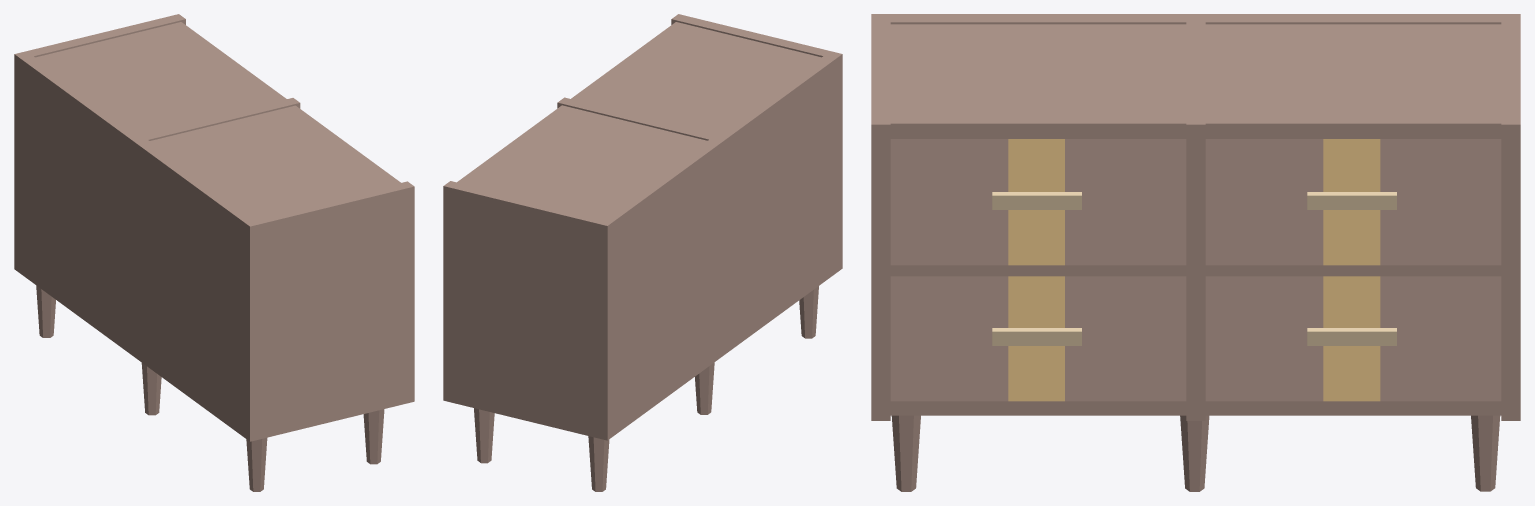
The model's file is drawer.fbx.
3 renders of one model, left to right at view 1: azimuth 30°, elevation 25°; view 2: azimuth 150°, elevation 25°; view 3: azimuth 270°, elevation 25°, orthographic. The views are drawn at different scales.
Parts seen in each view (by area): view 1: group907466834, group1697177697, group1188150494, group460319860, group1371453531, group1922718748, group651829520, group2074098319, group1411203478; view 2: group907466834, group1371453531, group1188150494, group460319860, group1697177697, group1411203478, group2085547140, group651829520, group2074098319; view 3: group1188150494, group90124938, group1704633651, group1049979582, group1332658999, group2117863080, group1371453531, group1697177697, group460319860, group702753794, group907466834, group1922718748 (+2 smaller).
Part boxes in pixels (<box>): group907466834: <box>14,51,262,441</box>; group1697177697: <box>255,181,414,438</box>; group1188150494: <box>35,22,400,218</box>; group460319860: <box>141,98,300,140</box>; group1371453531: <box>27,14,185,57</box>; group1922718748: <box>363,409,384,464</box>; group651829520: <box>246,437,267,491</box>; group2074098319: <box>141,363,161,415</box>; group1411203478: <box>36,285,55,337</box>; group907466834: <box>595,51,842,440</box>; group1371453531: <box>443,181,601,437</box>; group1188150494: <box>457,22,821,217</box>; group460319860: <box>557,97,715,140</box>; group1697177697: <box>671,14,829,57</box>; group1411203478: <box>588,436,609,491</box>; group2085547140: <box>474,408,494,463</box>; group651829520: <box>799,286,818,338</box>; group2074098319: <box>695,362,714,414</box>; group1188150494: <box>890,24,1501,138</box>; group90124938: <box>1205,139,1501,265</box>; group1704633651: <box>890,139,1186,265</box>; group1049979582: <box>1205,276,1501,401</box>; group1332658999: <box>890,276,1186,401</box>; group2117863080: <box>890,401,1501,415</box>; group1371453531: <box>1501,22,1520,420</box>; group1697177697: <box>871,22,890,420</box>; group460319860: <box>1186,22,1205,420</box>; group702753794: <box>890,265,1501,276</box>; group907466834: <box>871,14,1520,24</box>; group1922718748: <box>891,415,920,491</box>.
Size of the model in its own units: 108 by 174 by 268.
